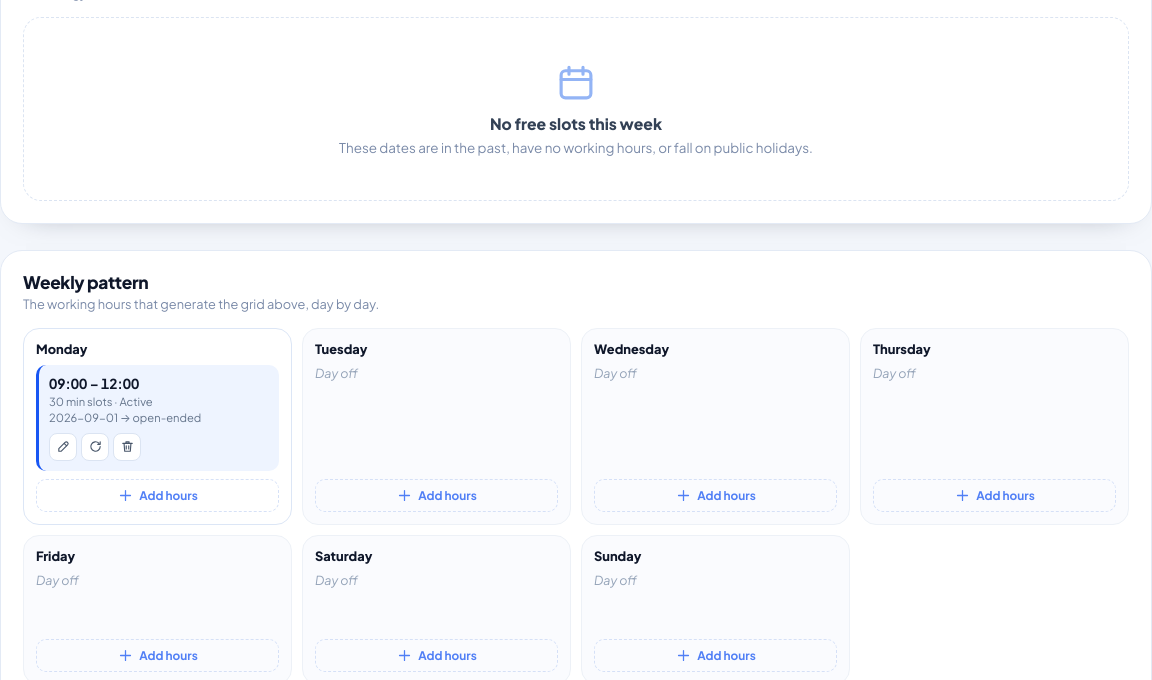
Test: AppointmentsPage redesign interactions › confirms in a dialog before deleting a working day
(page scrolled)
Click the button named "Delete Monday schedule" at coordinates (127, 447), box x1=113 y1=433 x2=141 y2=461
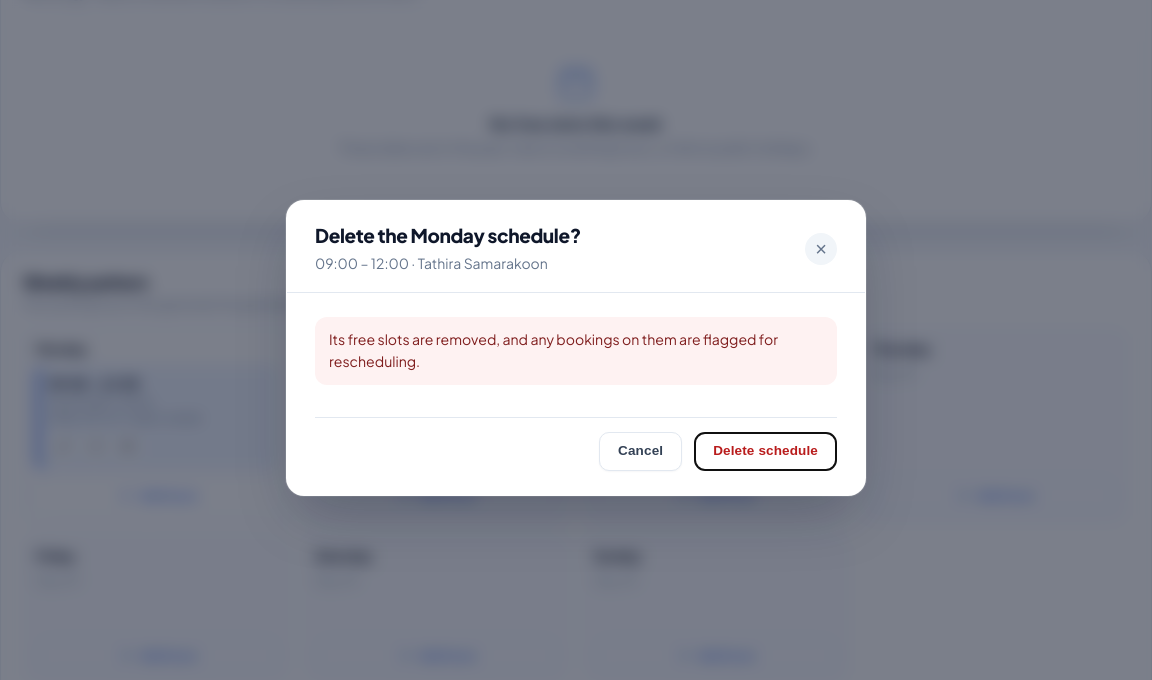
Click the button "Delete schedule" at coordinates (766, 451), box x1=694 y1=432 x2=837 y2=471
(page scrolled)
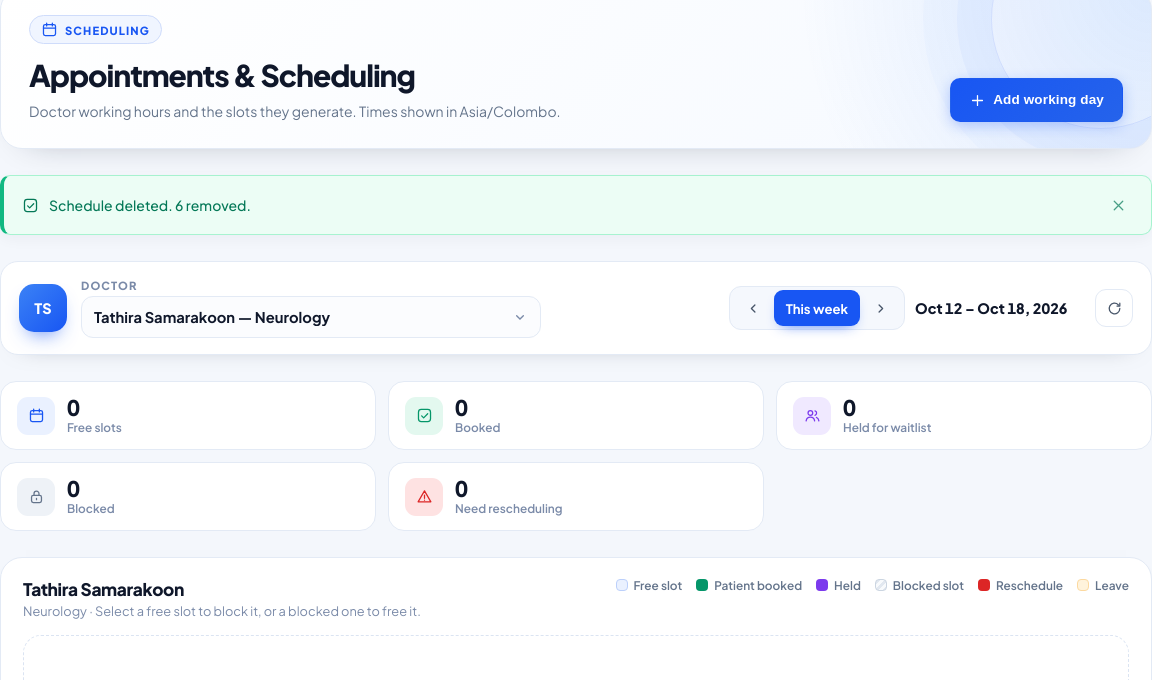
Result: the text "Schedule deleted. 6 removed." is shown at x1=49 y1=196 x2=251 y2=214
